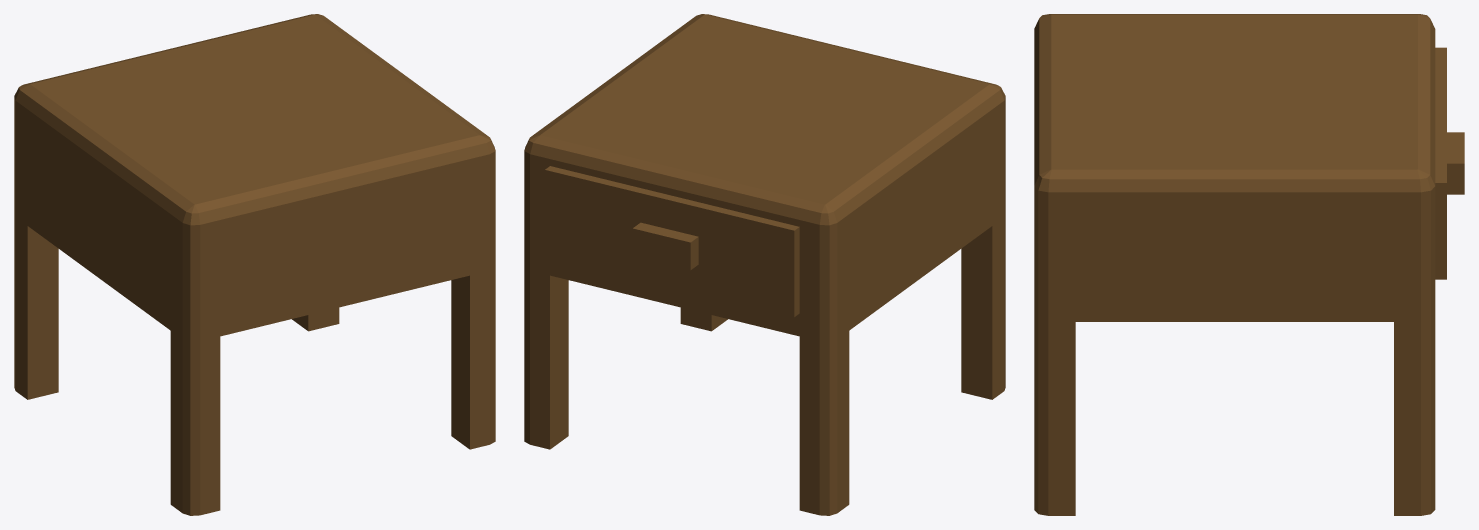
Rendered from Timmy's BedsideTable.fbx.
3 views of the same model, side by side, from view 1: azimuth 30°, elevation 25°; view 2: azimuth 150°, elevation 25°; view 3: azimuth 270°, elevation 25° (orthographic). The views are drawn at different scales.
Visible parts, largest first — view 1: Cube; view 2: Cube; view 3: Cube.
Boxes of the visible parts, x1=… form: Cube: x1=14, y1=14, x2=495, y2=515; Cube: x1=524, y1=14, x2=1005, y2=515; Cube: x1=1034, y1=14, x2=1464, y2=515.
Size of the model in its own units: 1.5 by 1.4 by 1.61.
